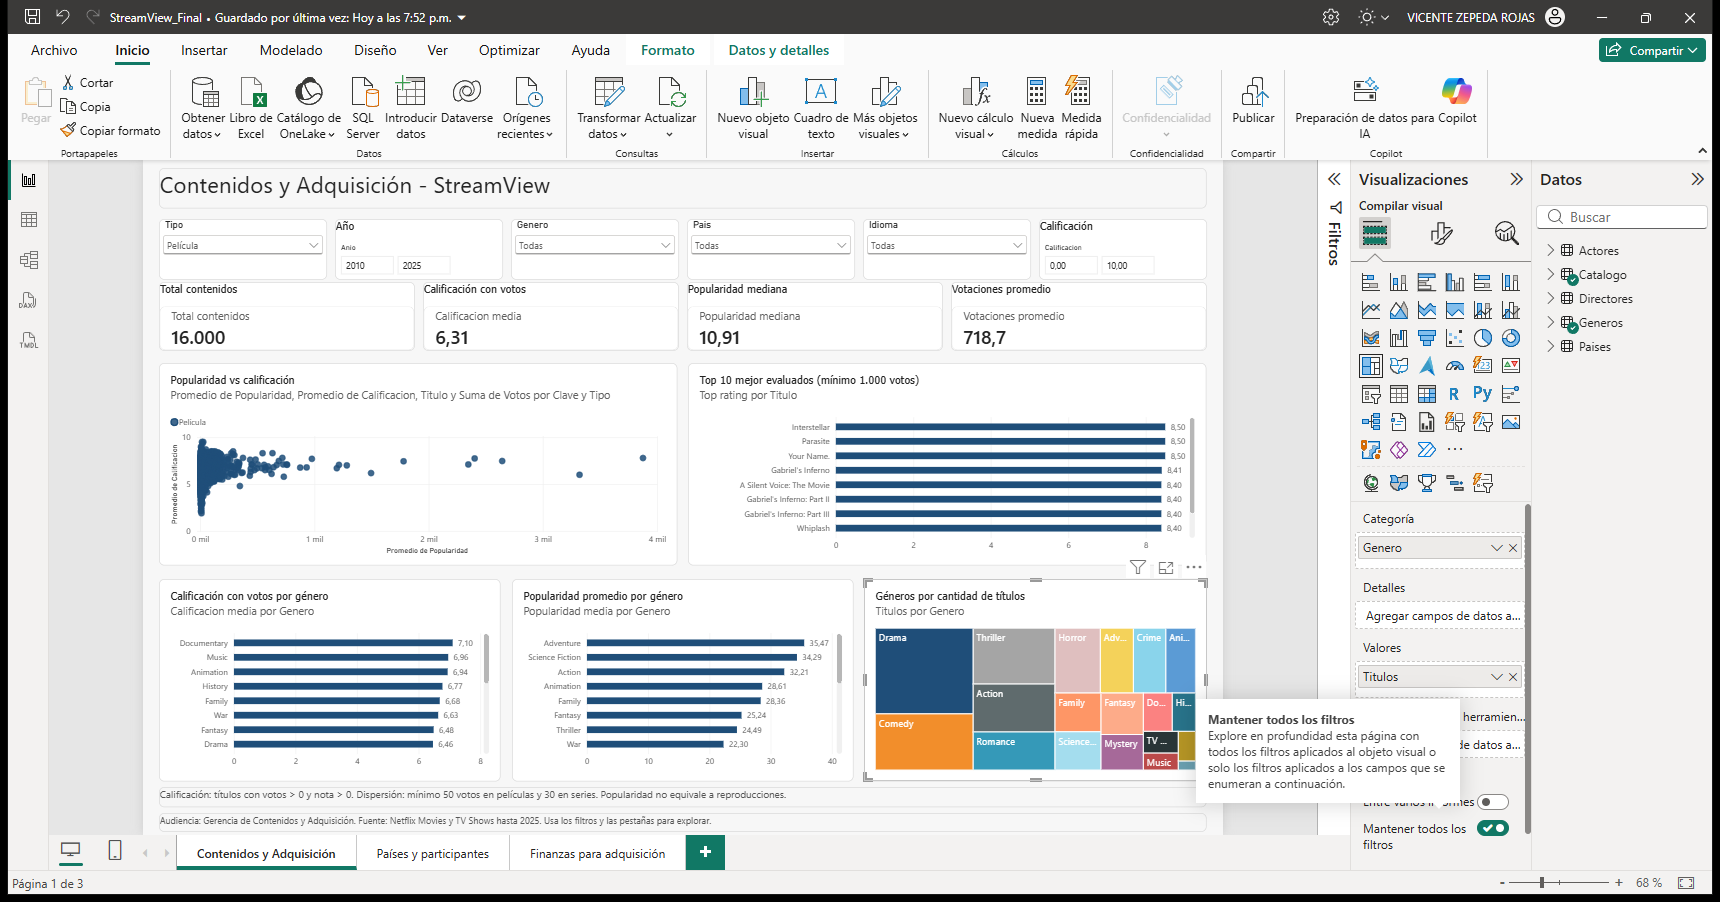

What the dashboard file says about the page in this screenshot:
{"tool":"powerbi","page":{"name":"Contenidos y Adquisición","canvas":[1600,1000],"ordinal":0},"visuals":[{"type":"textbox","box":[24,12,1552,60],"z":0},{"type":"slicer","title":"Tipo","fields":{"Values":["Catalogo.Tipo"]},"box":[24,88,248.7,90],"z":1},{"type":"slicer","title":"Año","fields":{"Values":["Catalogo.Anio"]},"box":[284.7,88,248.7,90],"z":2},{"type":"slicer","title":"Género","fields":{"Values":["Generos.Genero"]},"box":[545.3,88,248.7,90],"z":3},{"type":"slicer","title":"País","fields":{"Values":["Paises.Pais"]},"box":[806,88,248.7,90],"z":4},{"type":"slicer","title":"Idioma","fields":{"Values":["Catalogo.Idioma"]},"box":[1066.7,88,248.7,90],"z":5},{"type":"slicer","title":"Calificación","fields":{"Values":["Catalogo.Calificacion"]},"box":[1327.3,88,248.7,90],"z":6},{"type":"textbox","box":[24,967,1552,28],"z":7},{"type":"cardVisual","title":"Total contenidos","fields":{"Data":["Catalogo.Total contenidos"]},"box":[24,180,379,102],"z":8},{"type":"cardVisual","title":"Calificación con votos","fields":{"Data":["Catalogo.Calificacion media"]},"box":[415,180,379,102],"z":9},{"type":"cardVisual","title":"Popularidad mediana","fields":{"Data":["Catalogo.Popularidad mediana"]},"box":[806,180,379,102],"z":10},{"type":"cardVisual","title":"Votaciones promedio","fields":{"Data":["Catalogo.Votaciones promedio"]},"box":[1197,180,379,102],"z":11},{"type":"scatterChart","title":"Popularidad vs calificación","fields":{"Category":["Catalogo.Clave"],"X":["1(Catalogo.Popularidad)"],"Y":["1(Catalogo.Calificacion)"],"Series":["Catalogo.Tipo"]},"box":[24,300,768,300],"z":12},{"type":"clusteredBarChart","title":"Top 10 mejor evaluados (mínimo 1.000 votos)","fields":{"Category":["Catalogo.Titulo"],"Y":["Catalogo.Top rating"]},"box":[808,300,768,300],"z":13},{"type":"clusteredBarChart","title":"Calificación con votos por género","fields":{"Category":["Generos.Genero"],"Y":["Catalogo.Calificacion media"]},"box":[24,620,506,300],"z":14},{"type":"clusteredBarChart","title":"Popularidad promedio por género","fields":{"Category":["Generos.Genero"],"Y":["Catalogo.Popularidad media"]},"box":[546,620,506,300],"z":15},{"type":"treemap","title":"Géneros por cantidad de títulos","fields":{"Group":["Generos.Genero"],"Values":["Catalogo.Titulos"]},"box":[1068,620,508,300],"z":16},{"type":"textbox","box":[24,929,1552,30],"z":17}]}

Visuals, with their boxes on the page's 1600x1000 design canvas (x1, y1, x2, y2). These are canvas units, not pixel positions in the 1720x902 screenshot, which may show the page scaled, cropped or inside an application window:
textbox: bbox=[24, 12, 1576, 72]
"Tipo" slicer: bbox=[24, 88, 273, 178]
"Año" slicer: bbox=[285, 88, 533, 178]
"Género" slicer: bbox=[545, 88, 794, 178]
"País" slicer: bbox=[806, 88, 1055, 178]
"Idioma" slicer: bbox=[1067, 88, 1315, 178]
"Calificación" slicer: bbox=[1327, 88, 1576, 178]
textbox: bbox=[24, 967, 1576, 995]
"Total contenidos" cardVisual: bbox=[24, 180, 403, 282]
"Calificación con votos" cardVisual: bbox=[415, 180, 794, 282]
"Popularidad mediana" cardVisual: bbox=[806, 180, 1185, 282]
"Votaciones promedio" cardVisual: bbox=[1197, 180, 1576, 282]
"Popularidad vs calificación" scatterChart: bbox=[24, 300, 792, 600]
"Top 10 mejor evaluados (mínimo 1.000 votos)" clusteredBarChart: bbox=[808, 300, 1576, 600]
"Calificación con votos por género" clusteredBarChart: bbox=[24, 620, 530, 920]
"Popularidad promedio por género" clusteredBarChart: bbox=[546, 620, 1052, 920]
"Géneros por cantidad de títulos" treemap: bbox=[1068, 620, 1576, 920]
textbox: bbox=[24, 929, 1576, 959]
